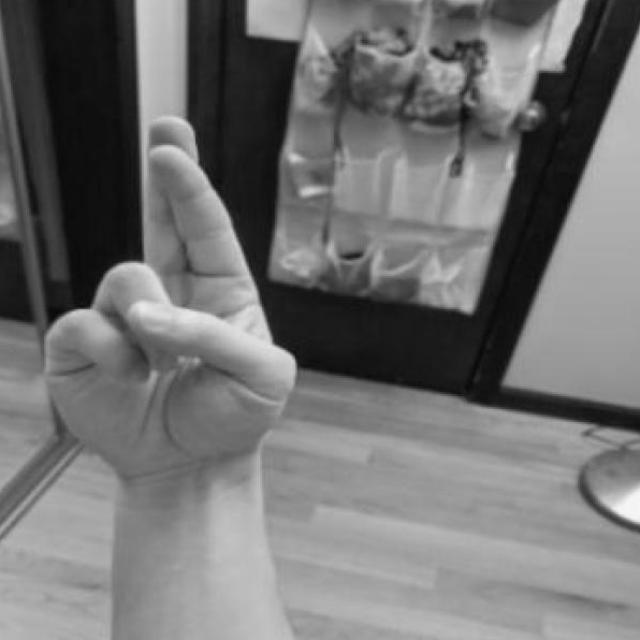R: (35, 105, 305, 547)
